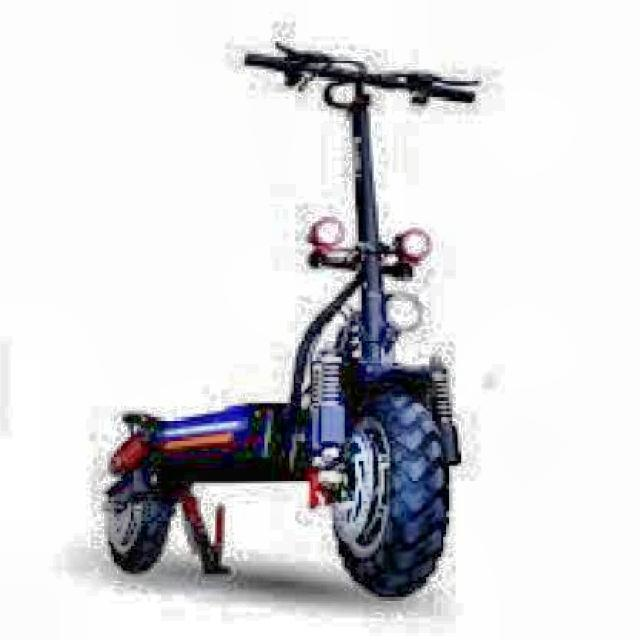bike: (101, 35, 487, 598)
